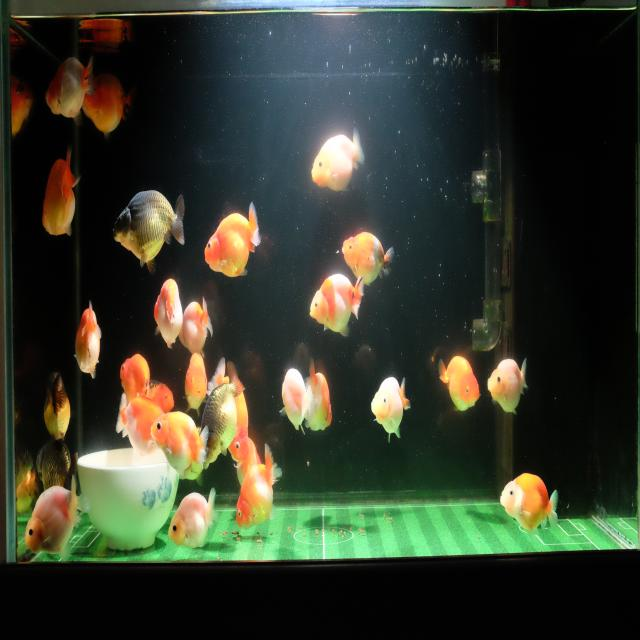Goldfish: (111, 186, 186, 278), (23, 473, 92, 558), (202, 199, 262, 280), (200, 360, 243, 471), (208, 355, 250, 462), (234, 441, 283, 532), (148, 409, 209, 477), (500, 470, 560, 538), (310, 124, 367, 195), (308, 271, 366, 340), (43, 54, 96, 128), (40, 147, 81, 242), (114, 392, 168, 460), (81, 71, 134, 139), (167, 486, 219, 550), (341, 229, 396, 288), (370, 374, 411, 446), (436, 350, 481, 415), (486, 354, 529, 418), (302, 356, 334, 437), (73, 299, 103, 384), (34, 438, 79, 494), (39, 366, 72, 442), (152, 277, 184, 353), (278, 365, 312, 433), (178, 295, 212, 353), (119, 352, 150, 406), (182, 352, 206, 416), (140, 381, 176, 413)
